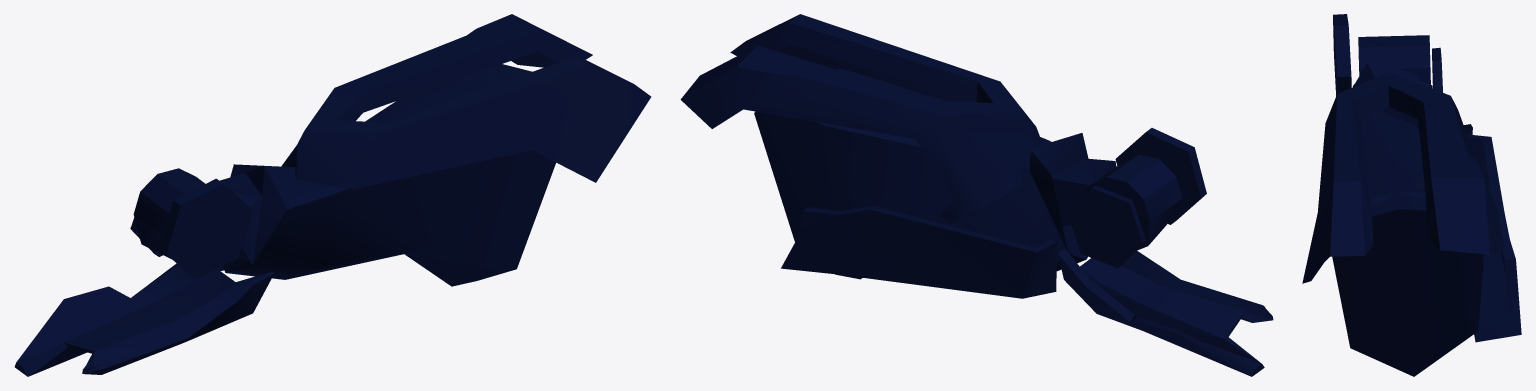
The model's file is RAnkle.obj.
3 renders of one model, left to right at view 1: azimuth 30°, elevation 25°; view 2: azimuth 150°, elevation 25°; view 3: azimuth 270°, elevation 25°, orthographic. The views are drawn at different scales.
Visible parts, largest first — view 1: RAnkle TrailerColor1; view 2: RAnkle TrailerColor1; view 3: RAnkle TrailerColor1.
Boxes of the visible parts, left/top/right/bottom form: RAnkle TrailerColor1: left=14, top=14, right=651, bottom=376; RAnkle TrailerColor1: left=680, top=14, right=1273, bottom=376; RAnkle TrailerColor1: left=1302, top=14, right=1521, bottom=376.
Bounding box in the file's own units: 354 × 132 × 111.
